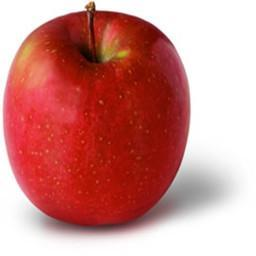apple: (1, 8, 191, 227)
